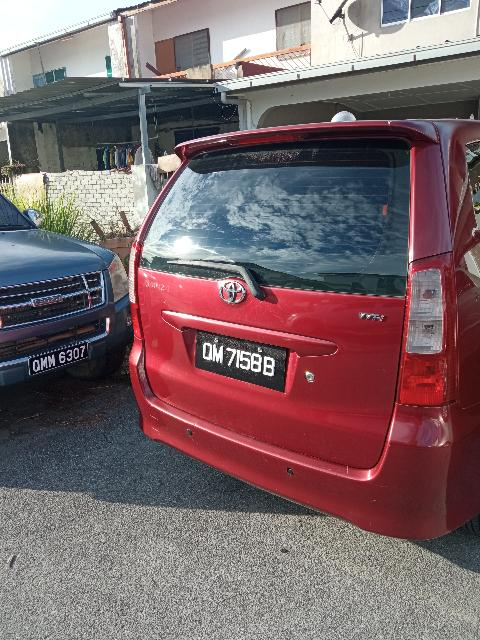License_Plate: (196, 331, 288, 396), (29, 343, 89, 378)
car: (114, 122, 480, 549)
